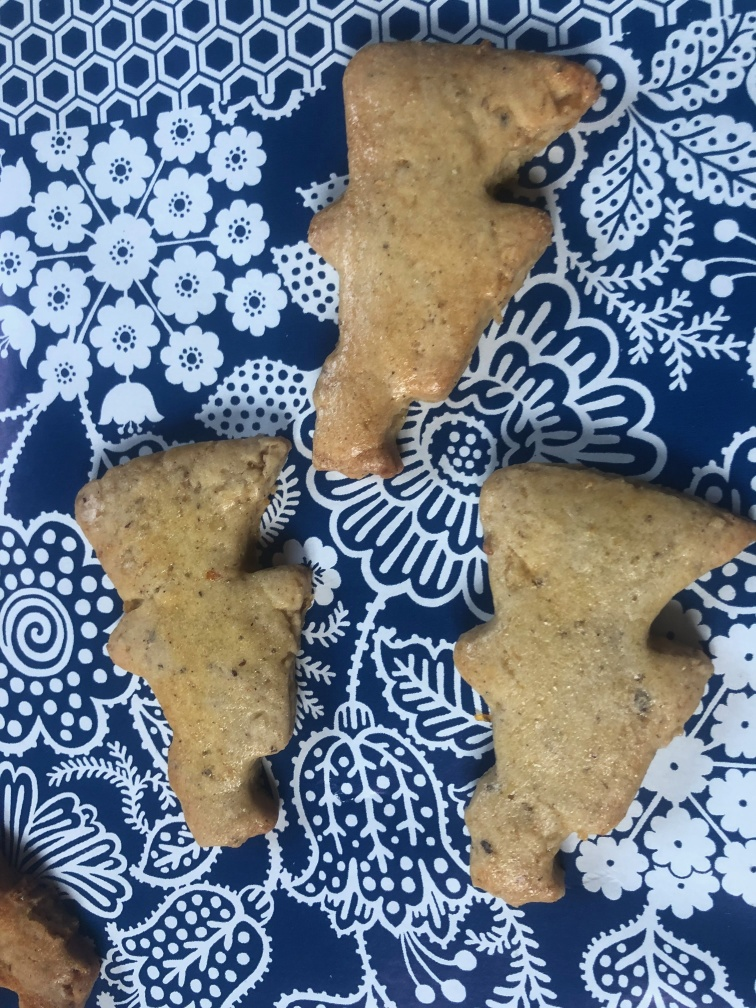king mage: (288, 32, 608, 481), (450, 458, 755, 917), (69, 432, 338, 860)
